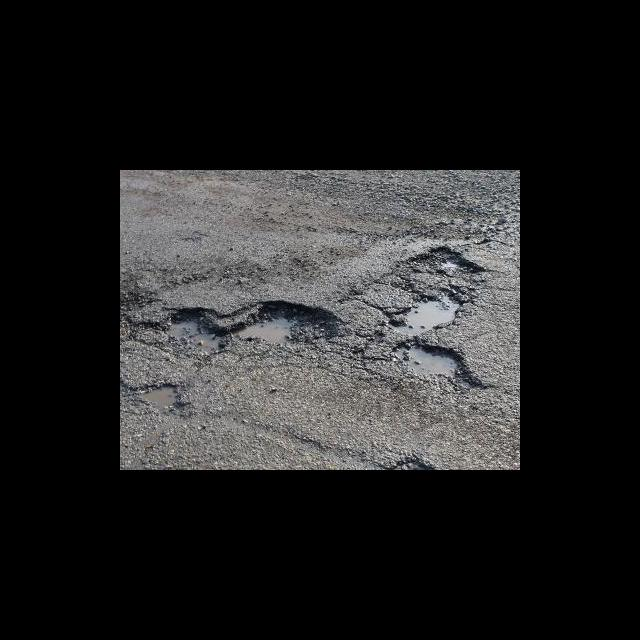lubang_kecil: (158, 274, 343, 375), (365, 265, 486, 395), (135, 369, 194, 424)
